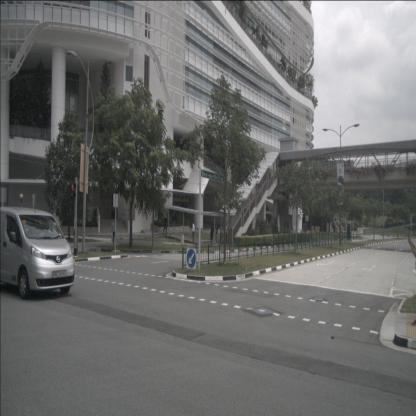human-pedestrian-adult: (112, 218, 116, 246), (192, 220, 196, 244), (210, 224, 214, 246), (163, 214, 167, 235), (224, 224, 228, 245), (220, 223, 223, 245), (215, 224, 218, 245), (341, 225, 344, 240), (290, 225, 294, 236)
vehicle-car: (0, 206, 76, 301)
